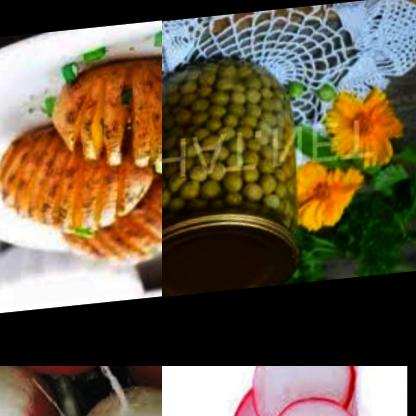peas: (162, 68, 276, 237), (318, 82, 342, 116), (284, 78, 308, 106)
potato: (0, 124, 162, 250), (44, 49, 162, 178), (52, 186, 162, 278)
rediska: (246, 366, 358, 416), (0, 366, 132, 393), (68, 379, 162, 416), (0, 366, 57, 416), (119, 366, 162, 407), (229, 385, 279, 416)
